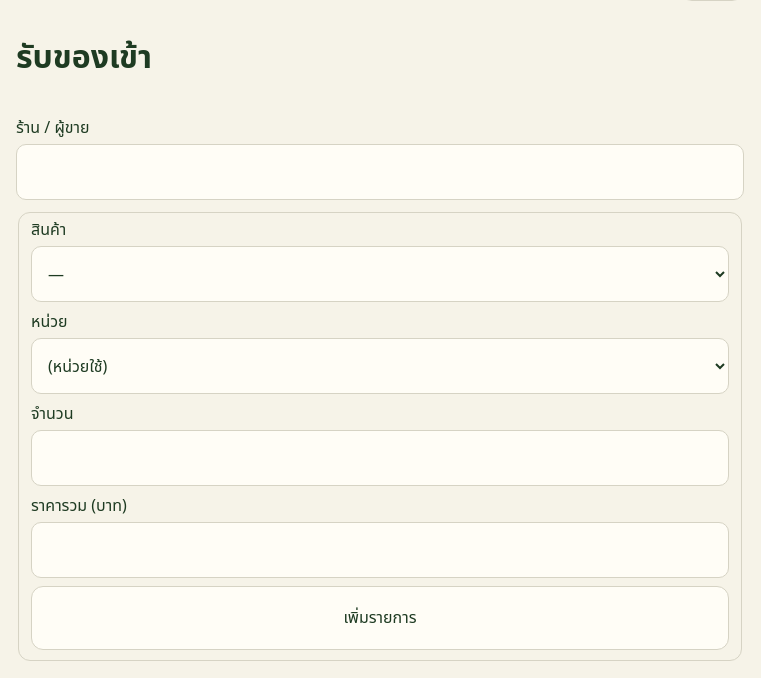
Scenario: ReceiveScreen — I-3 mutant M5 and the drawer checkbox: removeLine and unticking "จ่ายจากลิ้นชัก" both clear the over-drawer warning › removing the over-drawer line clears the warning immediately, without a new save press
Select "ชาเอ (RM-A)" in the dropdown with test id "receive-item" at [380, 274], box [31,246,729,302]
Type "1" into the field with test id "receive-qty".
click(380, 458); type("1")  # box [31,430,729,486]
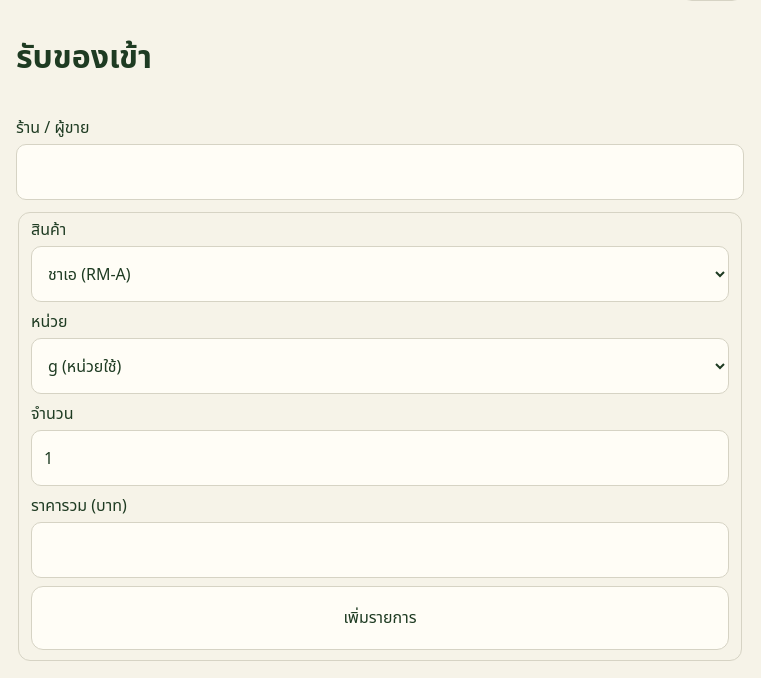
Type "0.10" into the field with test id "receive-total".
click(380, 550); type("0.10")  # box [31,522,729,578]
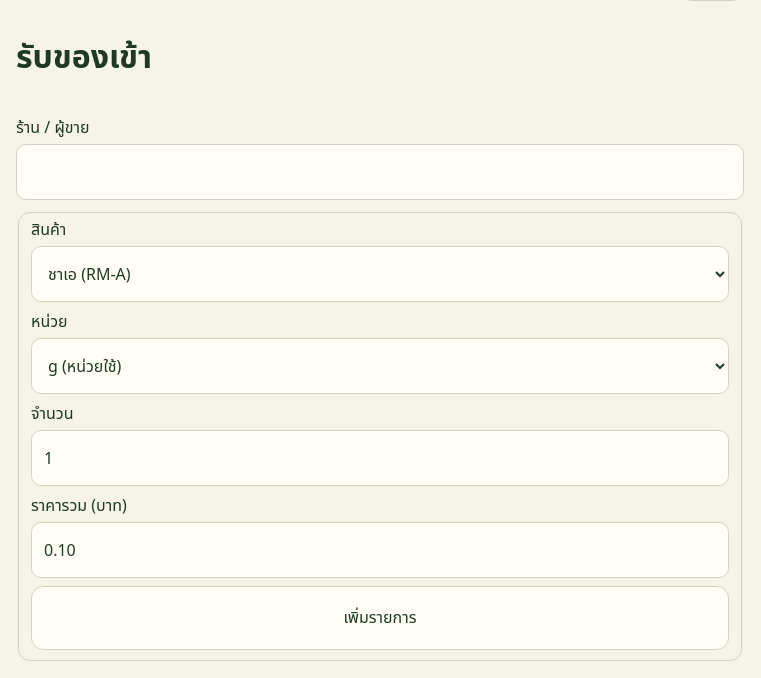
Click the button with test id "receive-add".
click(380, 618)  # box [31,586,729,650]
(page scrolled)
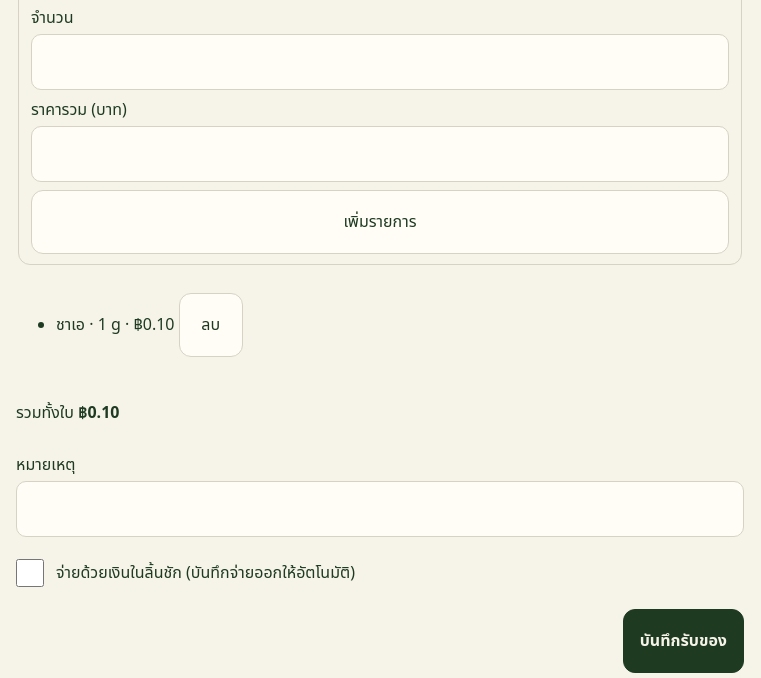
Click the checkbox with test id "receive-paid-drawer".
click(30, 574)  # box [16,560,44,588]
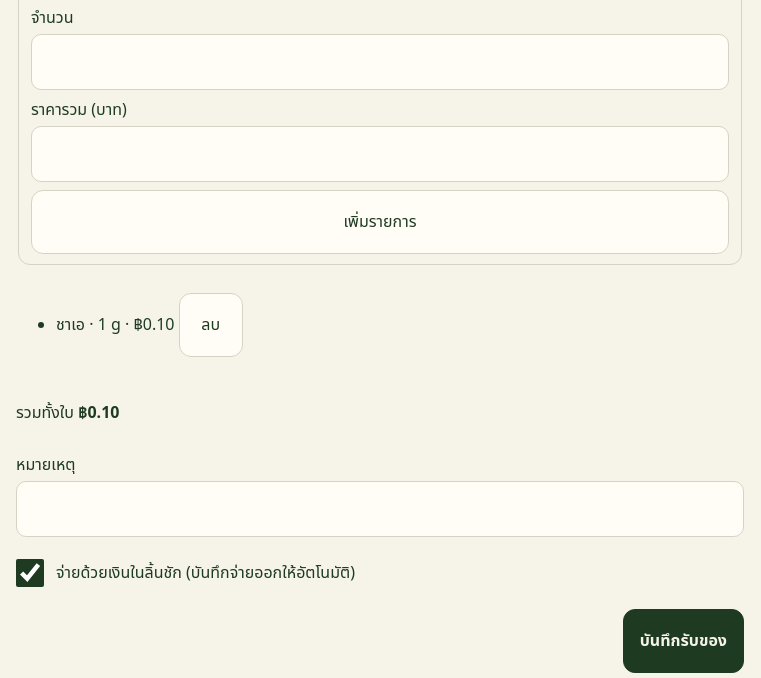
Expected: the checkbox with test id "receive-paid-drawer" is checked, [16,560,44,588]
Expected: the button with test id "receive-save" is enabled
Click the button with test id "receive-save".
click(683, 642)  # box [623,610,744,674]
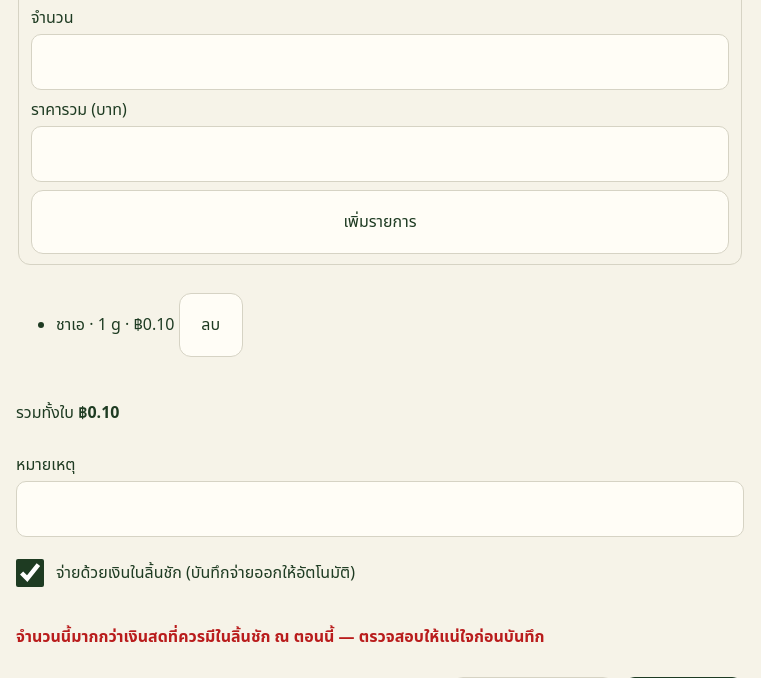
Expected: the message "จำนวนนี้มากกว่าเงินสดที่ควรมีในลิ้นชัก ณ ตอนนี้ — ตรวจสอบให้แน่ใจก่อนบันทึก" is shown, [16,626,545,648]
Click the button with test id "receive-remove-0".
click(211, 326)  # box [179,294,243,358]
(page scrolled)
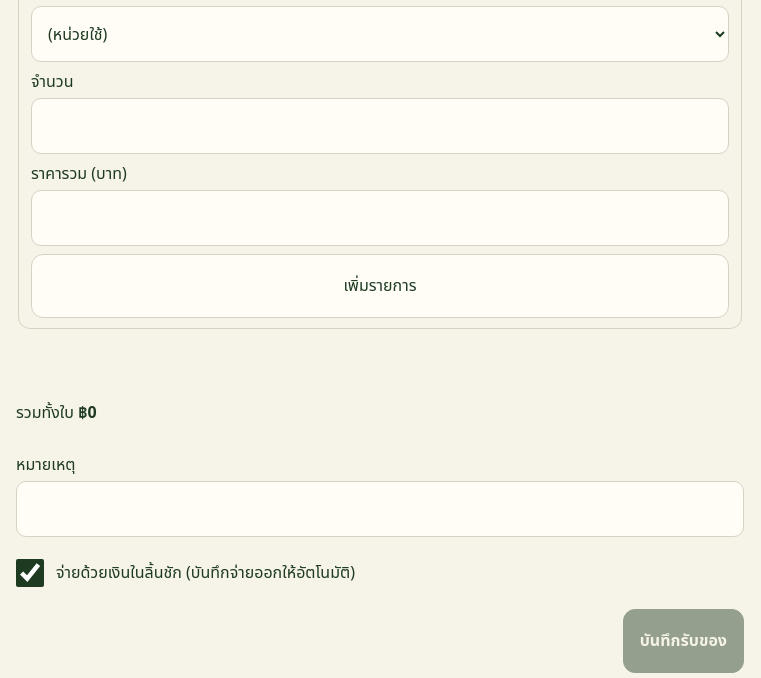
Expected: the message with test id "receive-over-drawer-warning" is gone
